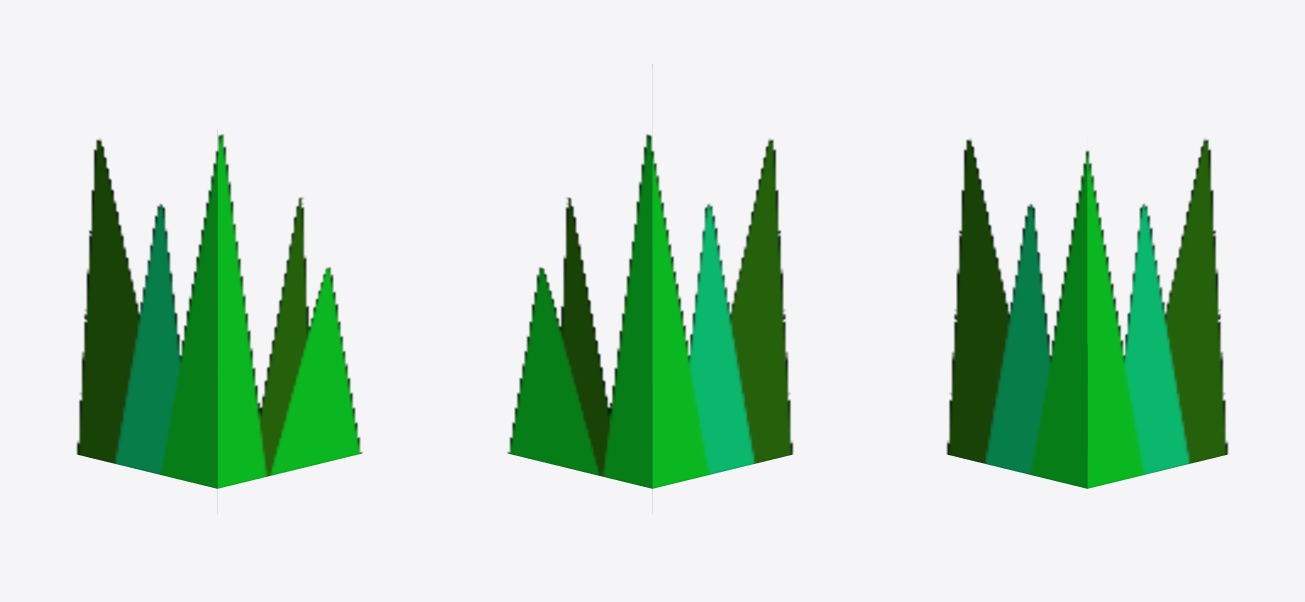
File: Grass_01.glb
3 views of the same model, side by side, from view 1: azimuth 30°, elevation 25°; view 2: azimuth 150°, elevation 25°; view 3: azimuth 270°, elevation 25° (orthographic).
Parts seen in each view (by area): view 1: Grass_01; view 2: Grass_01; view 3: Grass_01.
Part boxes in pixels (<box>): Grass_01: <box>76,134,362,488</box>; Grass_01: <box>507,134,793,488</box>; Grass_01: <box>946,139,1228,488</box>.
Bounding box in the file's own units: 1.5 × 2 × 1.73.
1 material, 1 textured.
